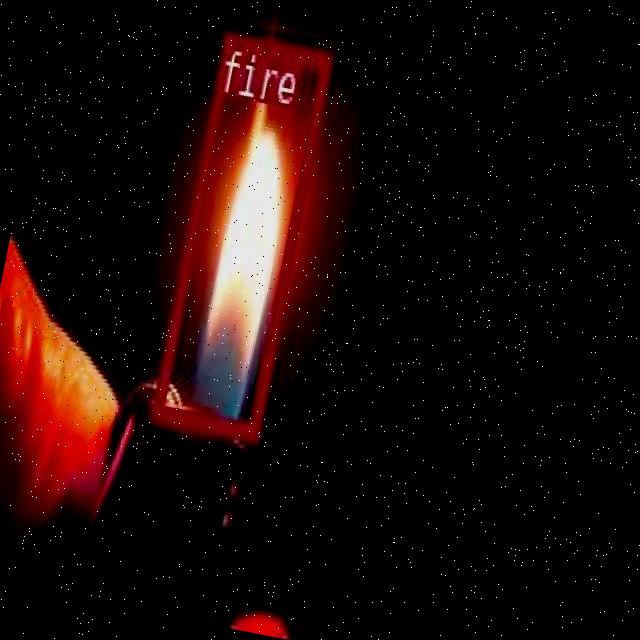fire: (150, 32, 331, 436)
